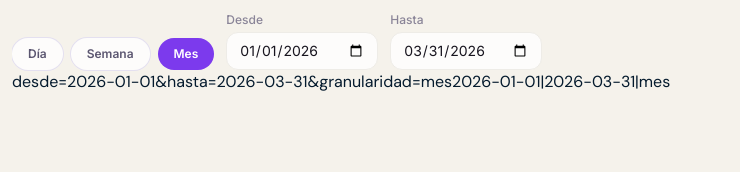
Test: RangoGranularidadSelector — writing back to the URL › writes the granularity into the search params when changed
The image size is (740, 172).
Click the button "Semana": (110, 54) [71,38,150,70]
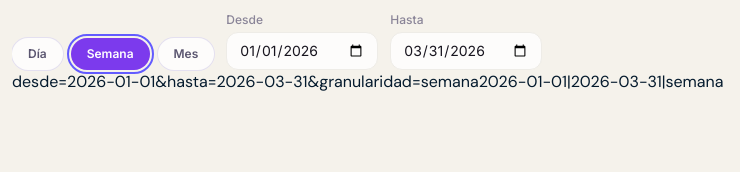
Expected: the text with test id "params" shows "granularidad=semana", [12,71,479,92]
Expected: the text with test id "rango" reads "2026-01-01|2026-03-31|semana", [479,71,724,92]
